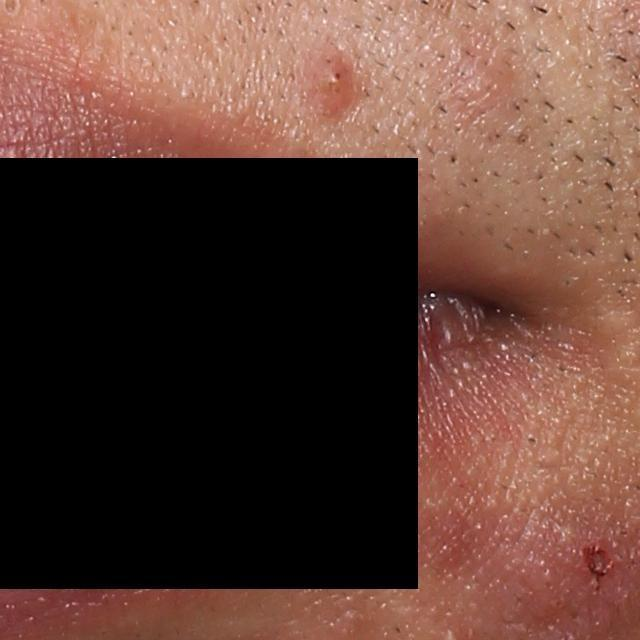papule: (436, 43, 514, 119), (301, 47, 357, 126)
